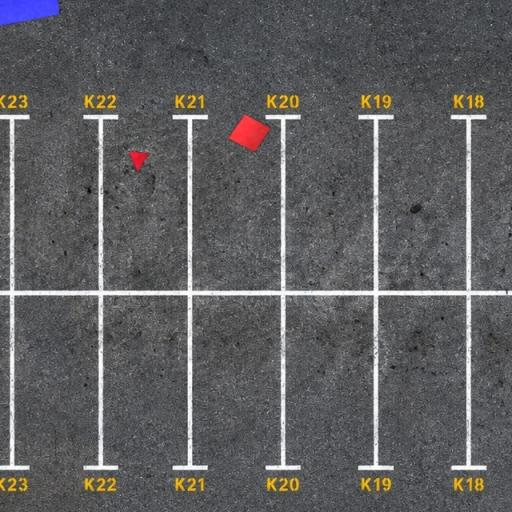RED_SQUARE: (226, 114, 272, 152)
